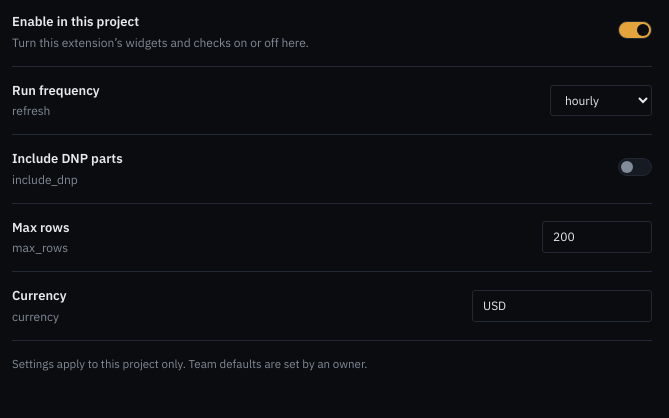
Scenario: SettingsTab › shows the refusal when the server rejects a value
This screenshot has width=669, height=418.
Select "daily" in the dropdown named "Run frequency". click: (601, 100)
box: [550,85,652,116]
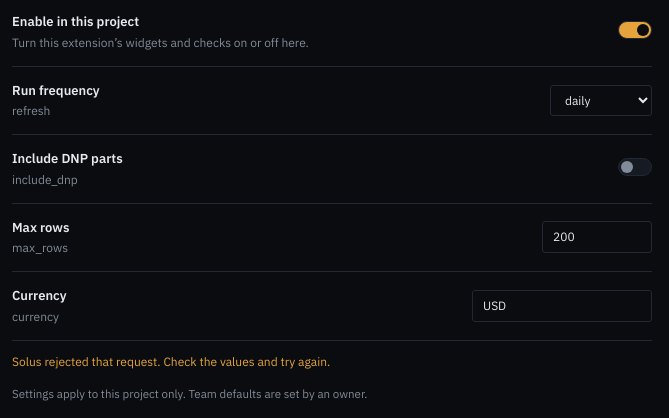
Expected: the message shows "rejected", [12,354,330,368]
